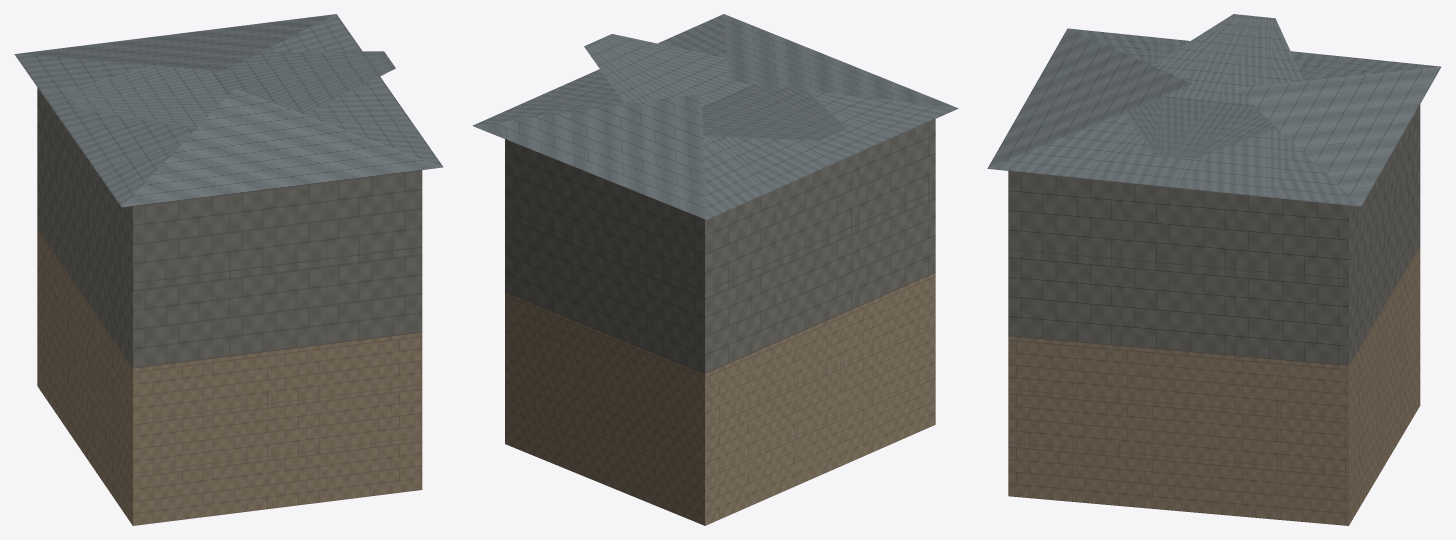
Rendered from bld_c1_11_490.gltf.
3 views of the same model, side by side, from view 1: azimuth 30°, elevation 25°; view 2: azimuth 150°, elevation 25°; view 3: azimuth 270°, elevation 25° (orthographic). The views are drawn at different scales.
Parts seen in each view (by area): view 1: bld_c1_11_490; view 2: bld_c1_11_490; view 3: bld_c1_11_490.
Boxes of the visible parts, box(x1,y1,x2,y2) form: bld_c1_11_490: box(14, 14, 442, 525); bld_c1_11_490: box(472, 14, 958, 525); bld_c1_11_490: box(987, 14, 1441, 525).
Bounding box in the file's own units: 12.19 × 11.6 × 13.11.
3 materials, 3 textured.
